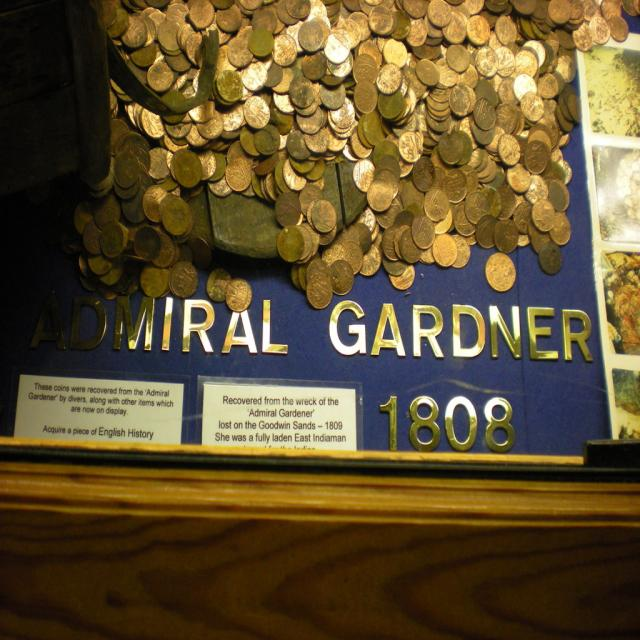Coin: (74, 0, 640, 315)
